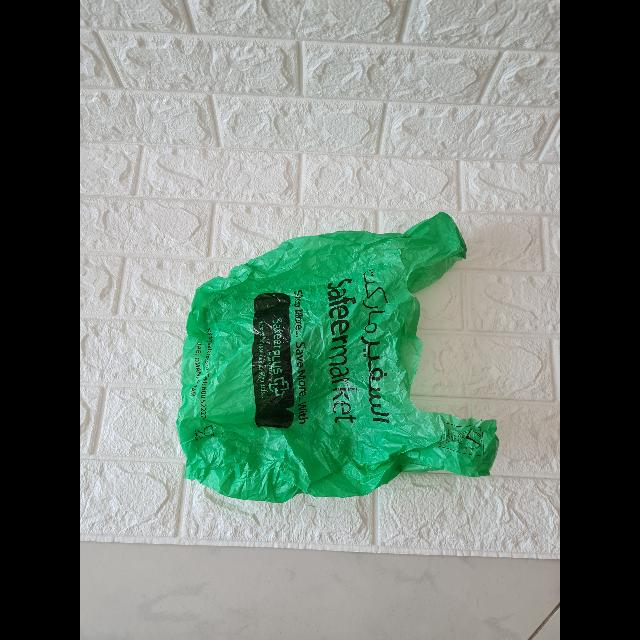plastic_bag: (168, 209, 507, 515)
